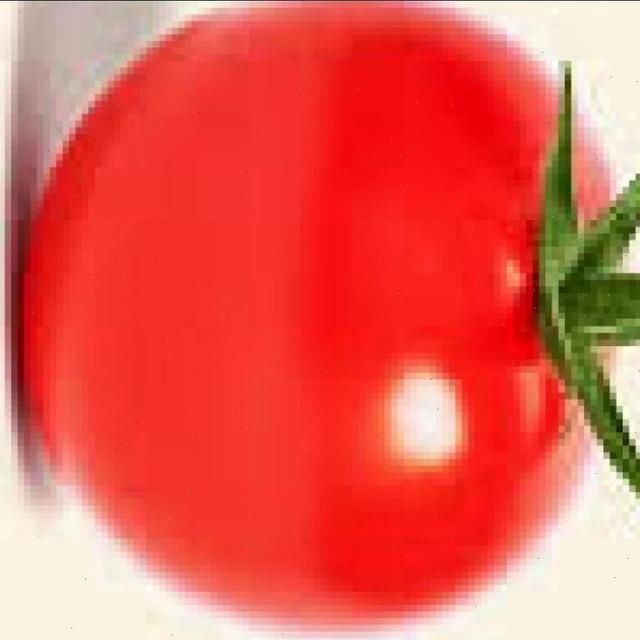Healthy Fruit: (13, 0, 404, 418)
